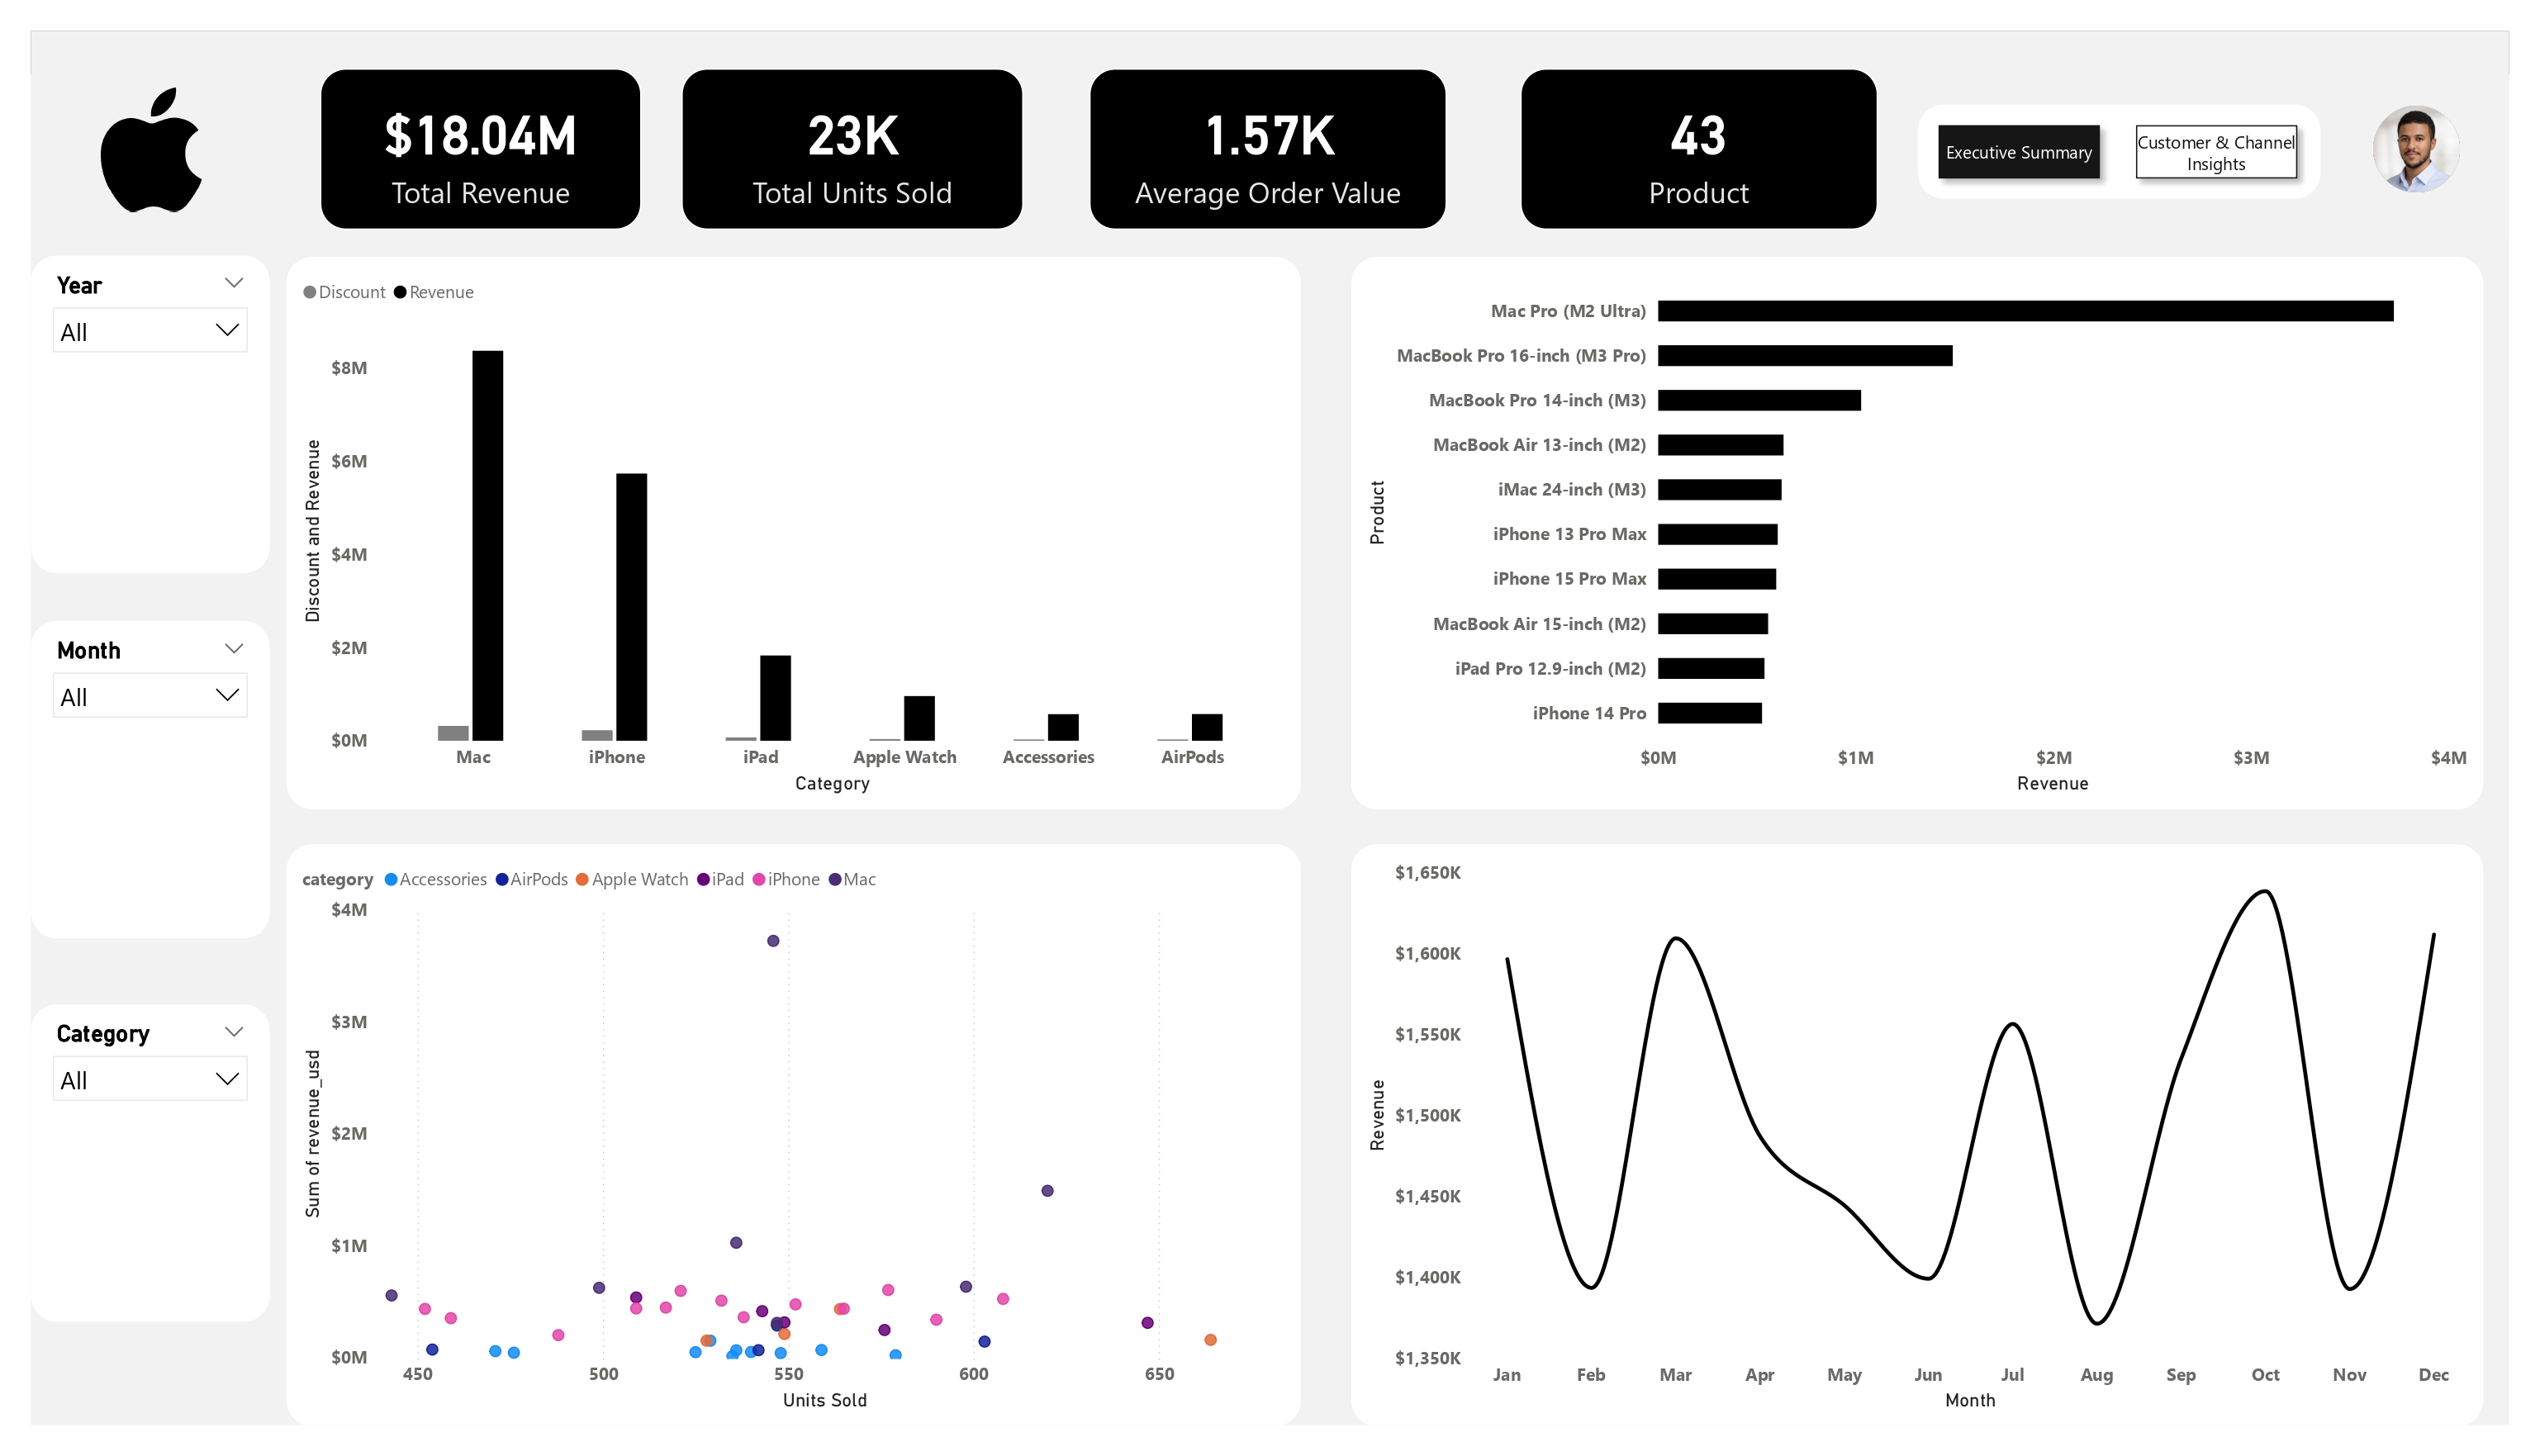

What the dashboard file says about the page in this screenshot:
{"tool":"powerbi","page":{"name":"Executive Summary","canvas":[1920,1080],"ordinal":0},"visuals":[{"type":"card","fields":{"Values":["Sum(apple_global_sales_dataset.revenue_usd)"]},"box":[223.8,29.3,249.5,124.7],"z":0},{"type":"card","fields":{"Values":["Sum(apple_global_sales_dataset.units_sold)"]},"box":[504.4,29.3,264.1,124.7],"z":1000},{"type":"card","fields":{"Values":["apple_global_sales_dataset.Average Order Value"]},"box":[819.9,29.3,277,124.7],"z":2000},{"type":"lineChart","fields":{"Y":["Sum(apple_global_sales_dataset.revenue_usd)"],"Category":["DateTable.Month Short"]},"box":[1023,629.8,876.8,450.8],"z":3000},{"type":"slicer","fields":{"Values":["DateTable.Year"]},"box":[0,174.3,185.3,245.8],"z":4000},{"type":"slicer","fields":{"Values":["DateTable.Month Short"]},"box":[0,456.7,185.3,245.8],"z":5000},{"type":"slicer","fields":{"Values":["apple_global_sales_dataset.category"]},"box":[0,753.9,185.3,245.8],"z":6000},{"type":"image","box":[31.2,38.5,122.9,106.4],"z":7000},{"type":"scatterChart","fields":{"X":["Sum(apple_global_sales_dataset.units_sold)"],"Y":["Sum(apple_global_sales_dataset.revenue_usd)"],"Category":["apple_global_sales_dataset.product_name"],"Series":["apple_global_sales_dataset.category"]},"box":[197.6,629.8,786.3,450.8],"z":8000},{"type":"clusteredColumnChart","fields":{"Category":["apple_global_sales_dataset.category"],"Y":["apple_global_sales_dataset.Total Discount Amount","Sum(apple_global_sales_dataset.revenue_usd)"]},"box":[197.6,175,786.3,428.1],"z":9000},{"type":"clusteredBarChart","fields":{"Y":["Sum(apple_global_sales_dataset.revenue_usd)"],"Category":["apple_global_sales_dataset.product_name"]},"box":[1023,175,876.8,428.1],"z":10000},{"type":"image","box":[1795.7,53.2,104.6,77],"z":11000},{"type":"card","fields":{"Values":["Count(apple_global_sales_dataset.product_name)"]},"box":[1153.7,29.3,277,124.7],"z":12000},{"type":"pageNavigator","box":[1461.9,56.9,311.8,73.4],"z":13000}]}

Visuals, with their boxes on the page's 1920x1080 design canvas (x1, y1, x2, y2). These are canvas units, not pixel positions in the 2540x1456 screenshot, which may show the page scaled, cropped or inside an application window:
card - Sum(apple_global_sales_dataset.revenue_usd): [224,29,473,154]
card - Sum(apple_global_sales_dataset.units_sold): [504,29,768,154]
card - apple_global_sales_dataset.Average Order Value: [820,29,1097,154]
lineChart - Sum(apple_global_sales_dataset.revenue_usd) x DateTable.Month Short: [1023,630,1900,1081]
slicer - DateTable.Year: [0,174,185,420]
slicer - DateTable.Month Short: [0,457,185,702]
slicer - apple_global_sales_dataset.category: [0,754,185,1000]
image: [31,38,154,145]
scatterChart - Sum(apple_global_sales_dataset.units_sold) x Sum(apple_global_sales_dataset.revenue_usd): [198,630,984,1081]
clusteredColumnChart - apple_global_sales_dataset.category x apple_global_sales_dataset.Total Discount Amount: [198,175,984,603]
clusteredBarChart - Sum(apple_global_sales_dataset.revenue_usd) x apple_global_sales_dataset.product_name: [1023,175,1900,603]
image: [1796,53,1900,130]
card - Count(apple_global_sales_dataset.product_name): [1154,29,1431,154]
pageNavigator: [1462,57,1774,130]
